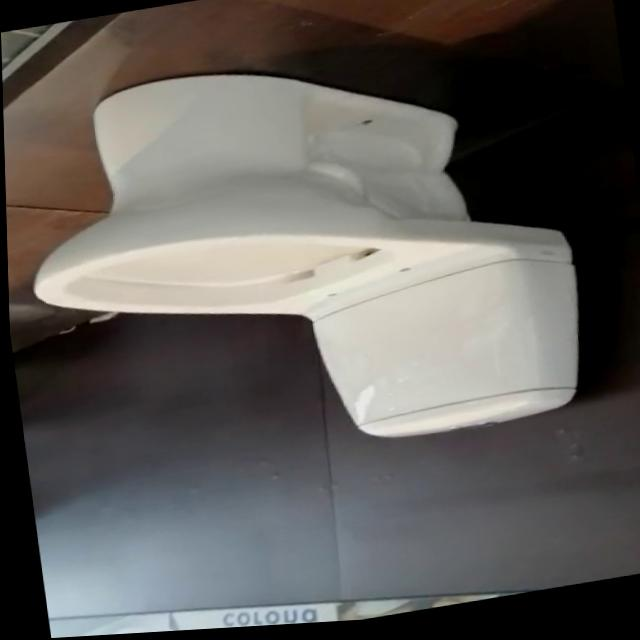toilet: (5, 22, 593, 500)
